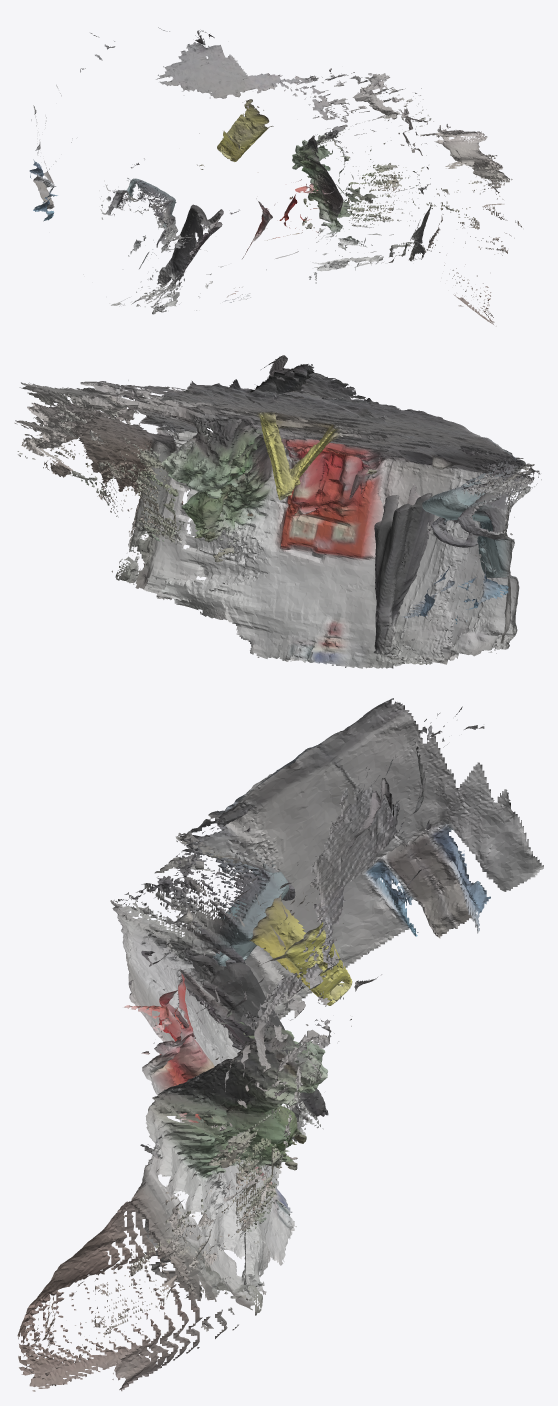
The model's file is 7scenes_file_all.glb.
The picture shows the model from 3 angles, top to bottom: view 1: azimuth 30°, elevation 25°; view 2: azimuth 150°, elevation 25°; view 3: azimuth 270°, elevation 25°; orthographic projection. The views are drawn at different scales.
Visible parts, largest first — view 1: world; view 2: world; view 3: world.
Boxes of the visible parts, x1,y1,x2,y2 form: world: (29,27,521,326); world: (14,355,541,668); world: (17,698,543,1391).
Bounding box in the file's own units: 5.24 × 3.32 × 3.36.
